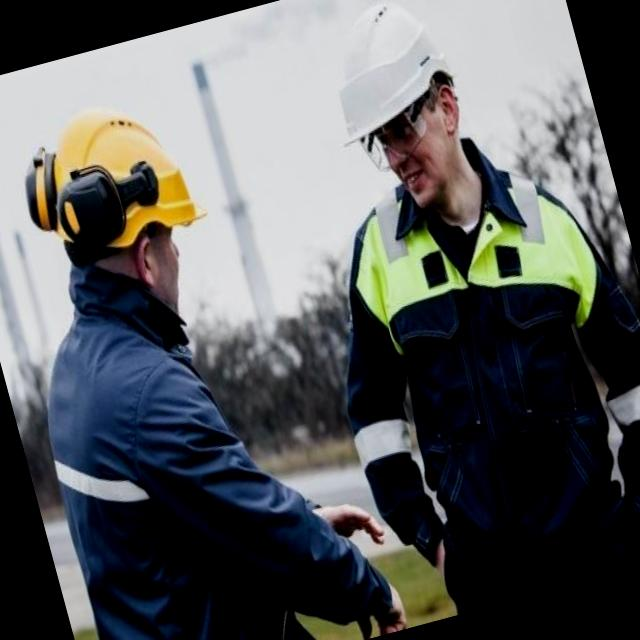helmet: (12, 93, 212, 283), (308, 0, 461, 145)
vest: (327, 156, 640, 547), (29, 273, 343, 640)
